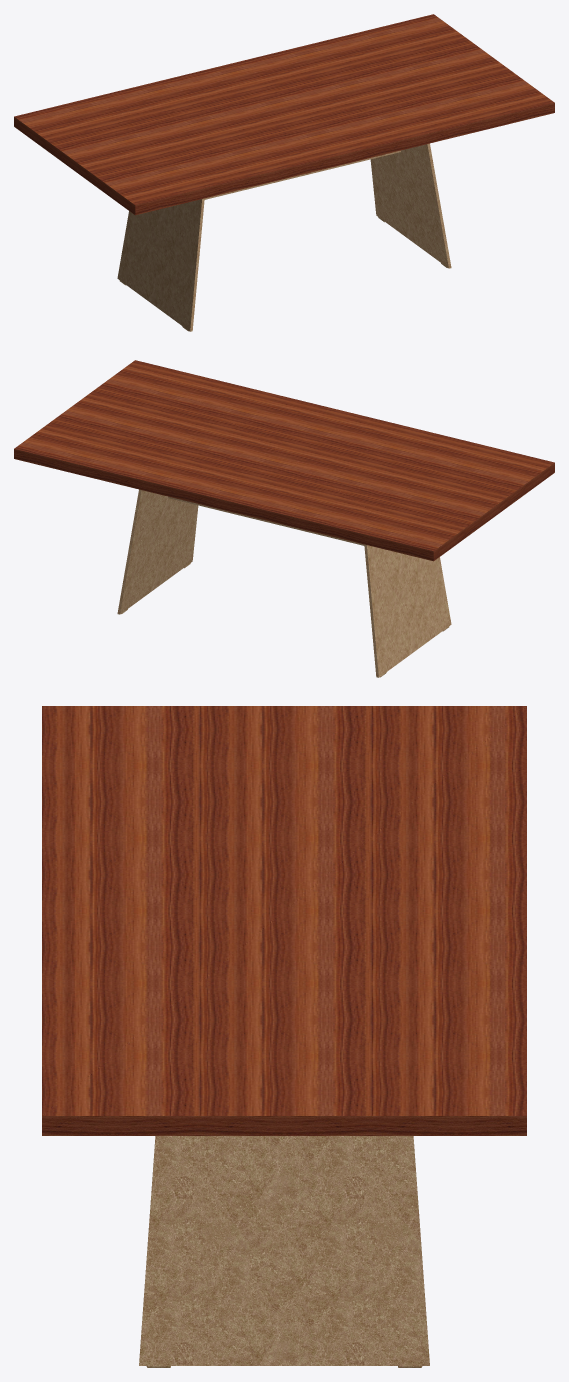
Rendered from Table4.obj.
The picture shows the model from 3 angles, top to bottom: view 1: azimuth 30°, elevation 25°; view 2: azimuth 150°, elevation 25°; view 3: azimuth 270°, elevation 25°; orthographic projection. The views are drawn at different scales.
Visible parts, largest first — view 1: 3_TADEO_02, 3_TADEO_04, 3_TADEO_01; view 2: 3_TADEO_02, 3_TADEO_04, 3_TADEO_01; view 3: 3_TADEO_02, 3_TADEO_04.
Part boxes in pixels (<box>): 3_TADEO_02: <box>14,14,554,215</box>; 3_TADEO_04: <box>117,143,451,331</box>; 3_TADEO_01: <box>204,150,400,199</box>; 3_TADEO_02: <box>14,360,554,561</box>; 3_TADEO_04: <box>117,489,451,677</box>; 3_TADEO_01: <box>168,496,364,545</box>; 3_TADEO_02: <box>42,706,526,1135</box>; 3_TADEO_04: <box>139,1136,429,1365</box>.
Bounding box in the file's own units: 2000 × 750 × 1000.
